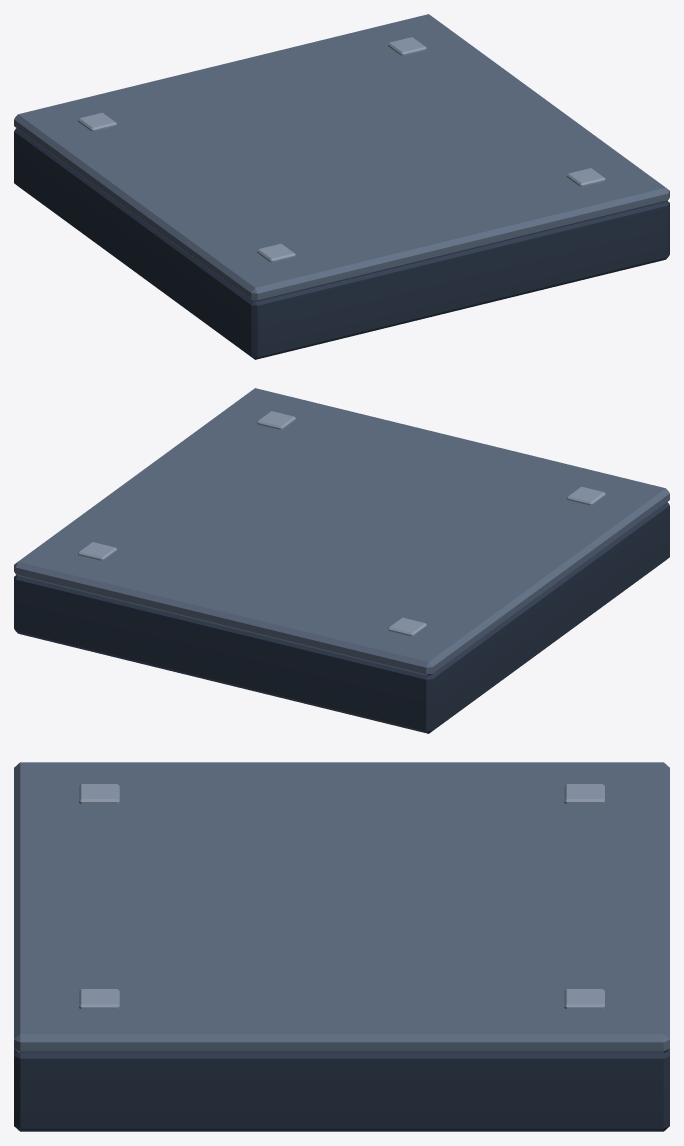
File: metal.glb
3 renders of one model, top to bottom at view 1: azimuth 30°, elevation 25°; view 2: azimuth 150°, elevation 25°; view 3: azimuth 270°, elevation 25°, orthographic. The views are drawn at different scales.
Visible parts, largest first — view 1: metal; view 2: metal; view 3: metal.
Boxes of the visible parts, x1=… form: metal: x1=14, y1=14, x2=669, y2=359; metal: x1=14, y1=388, x2=669, y2=733; metal: x1=14, y1=762, x2=669, y2=1131.
Size of the model in its own units: 1.46 by 0.25 by 1.46.
